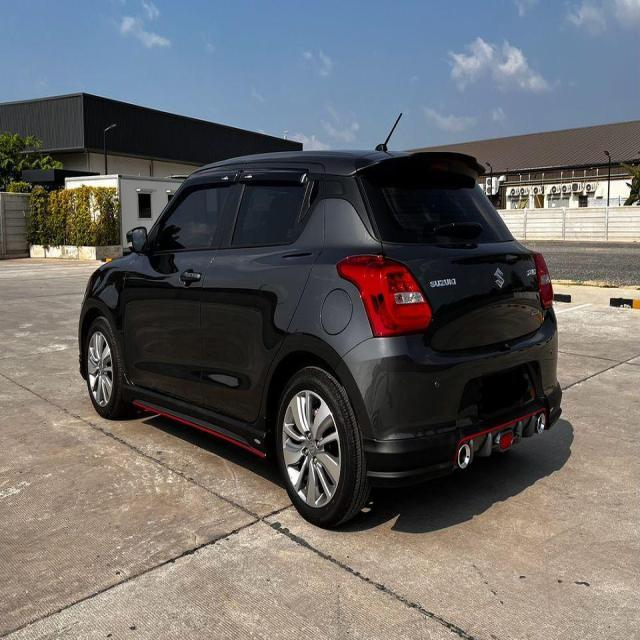Hatchback: (77, 151, 563, 532)
